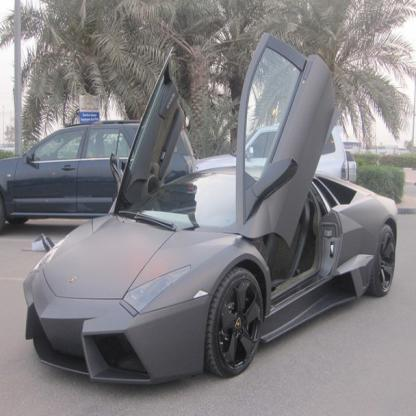Vehicle: (22, 162, 399, 386)
